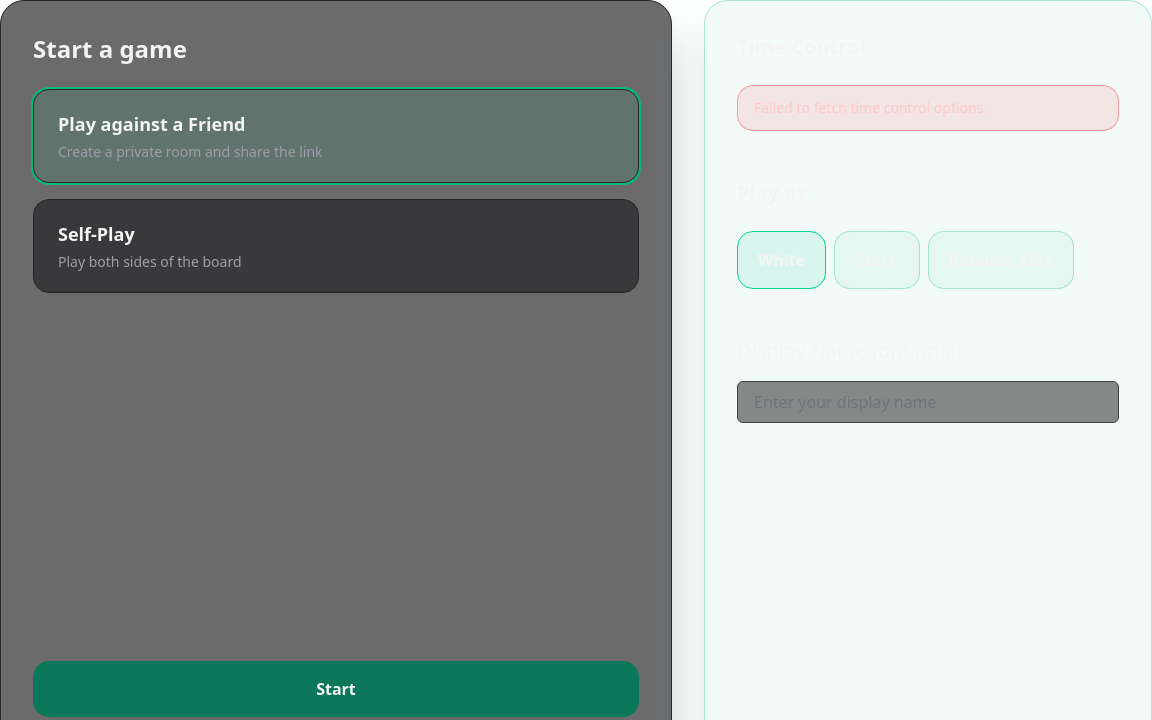
Scenario: GameRoomForm › Error Handling › displays error message when room creation fails: network timeout
# Click Start to trigger room creation
Click the button "Start".
click(336, 689)  # box [33,661,639,717]
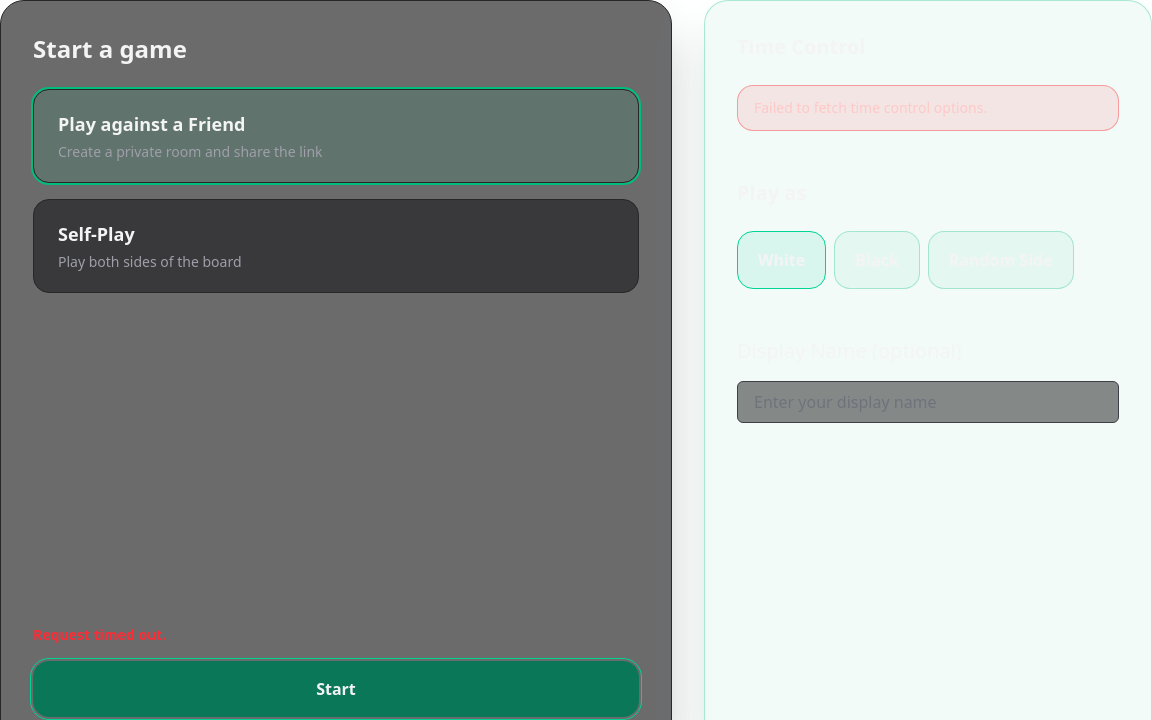
Expected: the message "Request timed out." is shown, [33,625,166,644]
